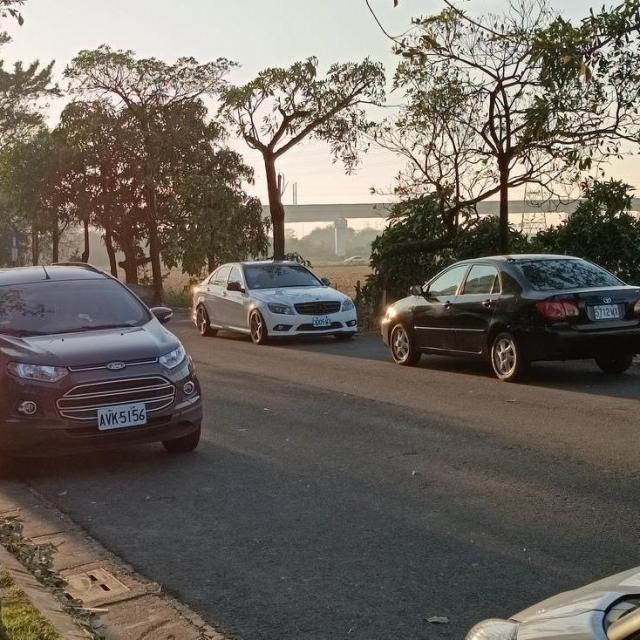W: (96, 402, 147, 430), (590, 300, 623, 321), (310, 313, 332, 327)
